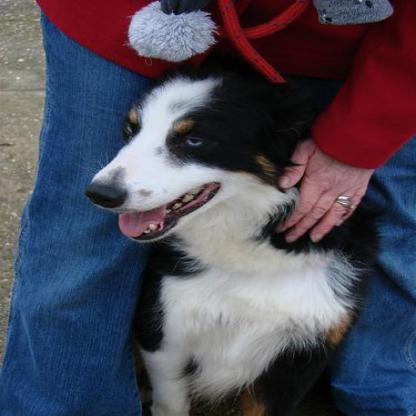Border_collie: (83, 66, 377, 414)
